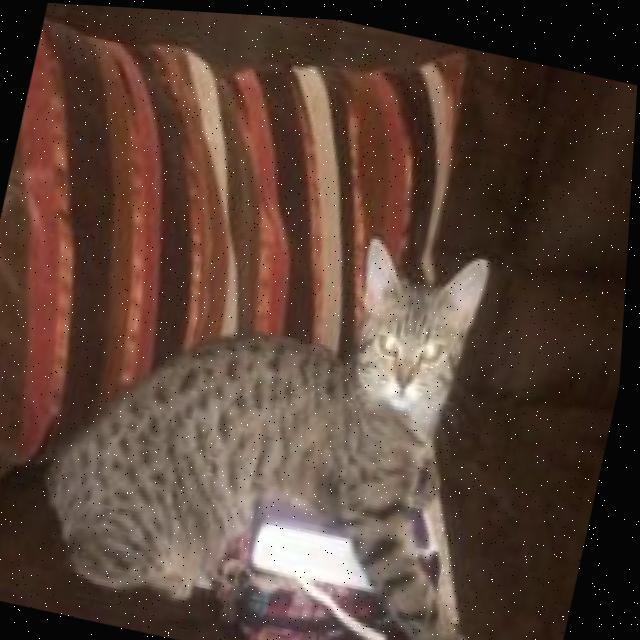Bengal: (22, 164, 596, 640)
